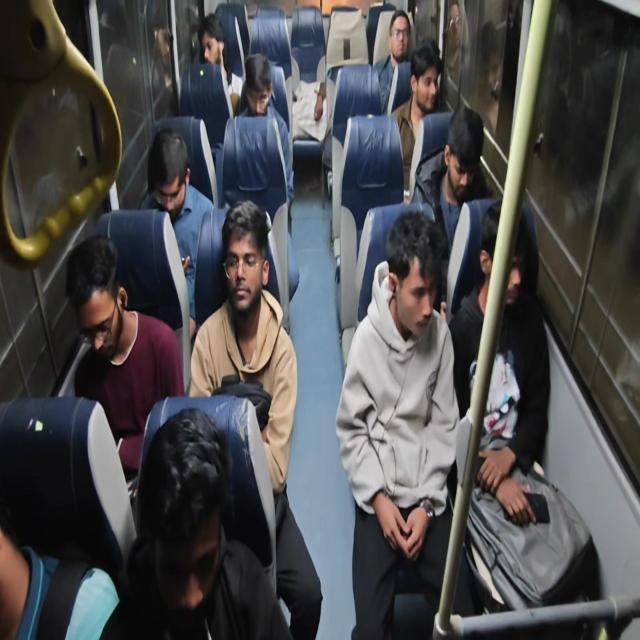person: (138, 404, 229, 616), (387, 208, 447, 338), (476, 199, 536, 318), (67, 244, 129, 358), (215, 204, 269, 308), (445, 100, 487, 198), (149, 127, 191, 218), (409, 39, 444, 117), (242, 48, 276, 128), (199, 14, 232, 83), (387, 8, 418, 78)
